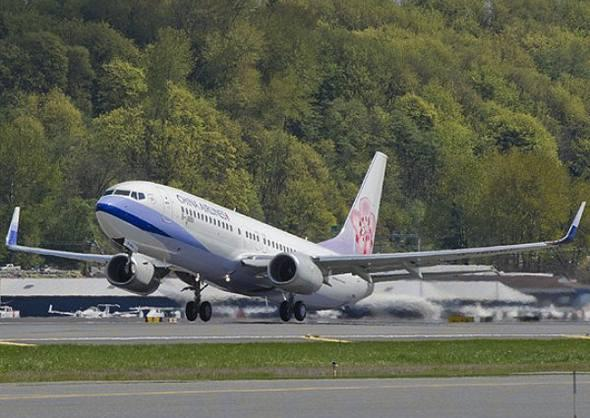airplane: (4, 146, 589, 331)
